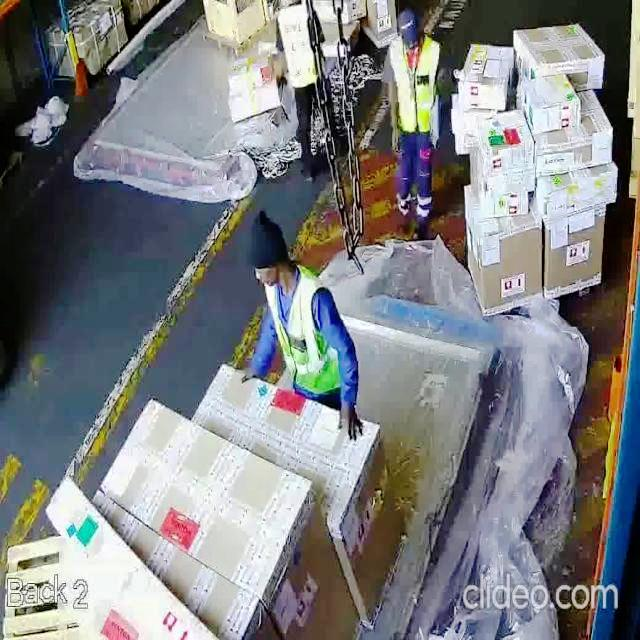Box: (120, 408, 328, 635), (206, 365, 404, 590), (464, 217, 544, 300), (543, 216, 604, 295), (515, 26, 603, 80), (226, 47, 284, 116), (477, 114, 535, 172), (457, 40, 507, 106), (546, 135, 617, 171), (546, 175, 618, 208), (528, 76, 574, 122)
